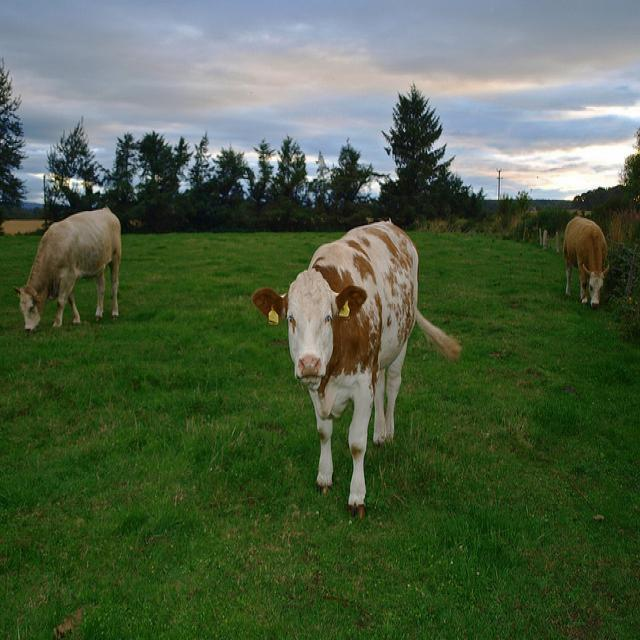cow: (248, 217, 462, 517), (12, 202, 121, 331), (562, 216, 607, 306)
